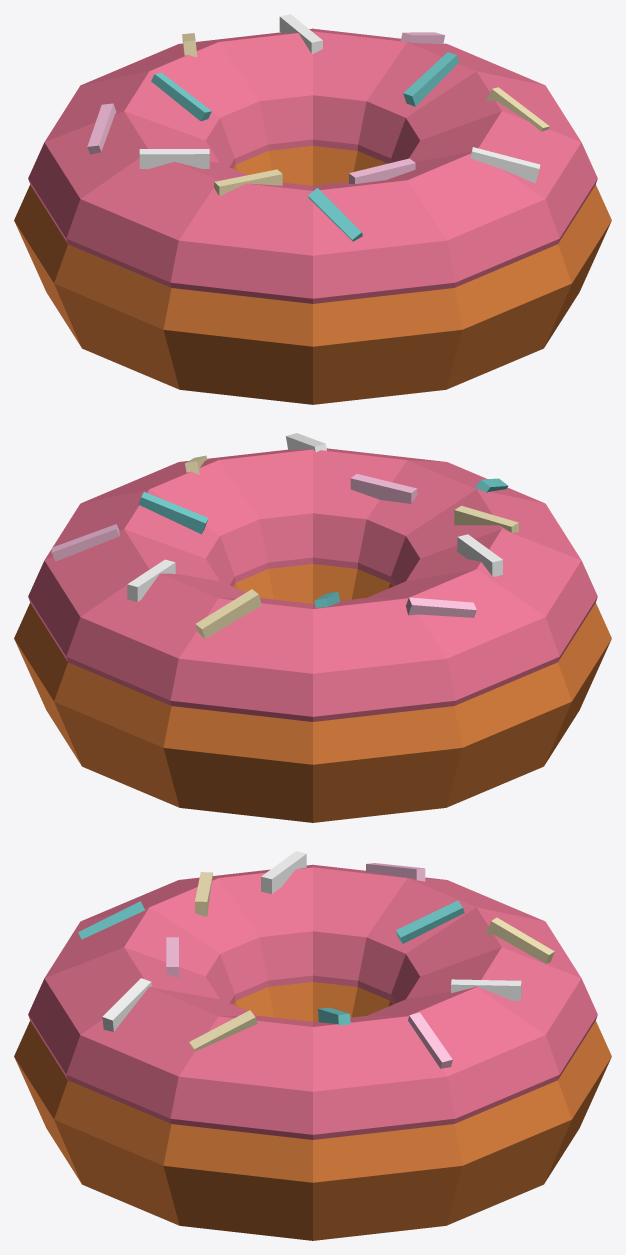
Rendered from CandylandDonut_01.fbx.
The picture shows the model from 3 angles, top to bottom: view 1: azimuth 30°, elevation 25°; view 2: azimuth 150°, elevation 25°; view 3: azimuth 270°, elevation 25°; orthographic projection.
Parts seen in each view (by area): view 1: CandylandDonut_01; view 2: CandylandDonut_01; view 3: CandylandDonut_01.
Part boxes in pixels (x1=…): CandylandDonut_01: x1=14, y1=14, x2=611, y2=404; CandylandDonut_01: x1=14, y1=433, x2=611, y2=822; CandylandDonut_01: x1=14, y1=851, x2=611, y2=1240.
Bounding box in the file's own units: 1.77 × 0.733 × 1.77.
